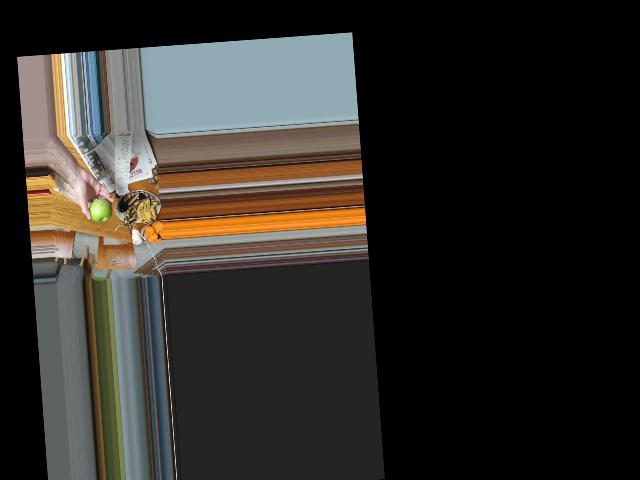apple: (87, 199, 110, 222)
